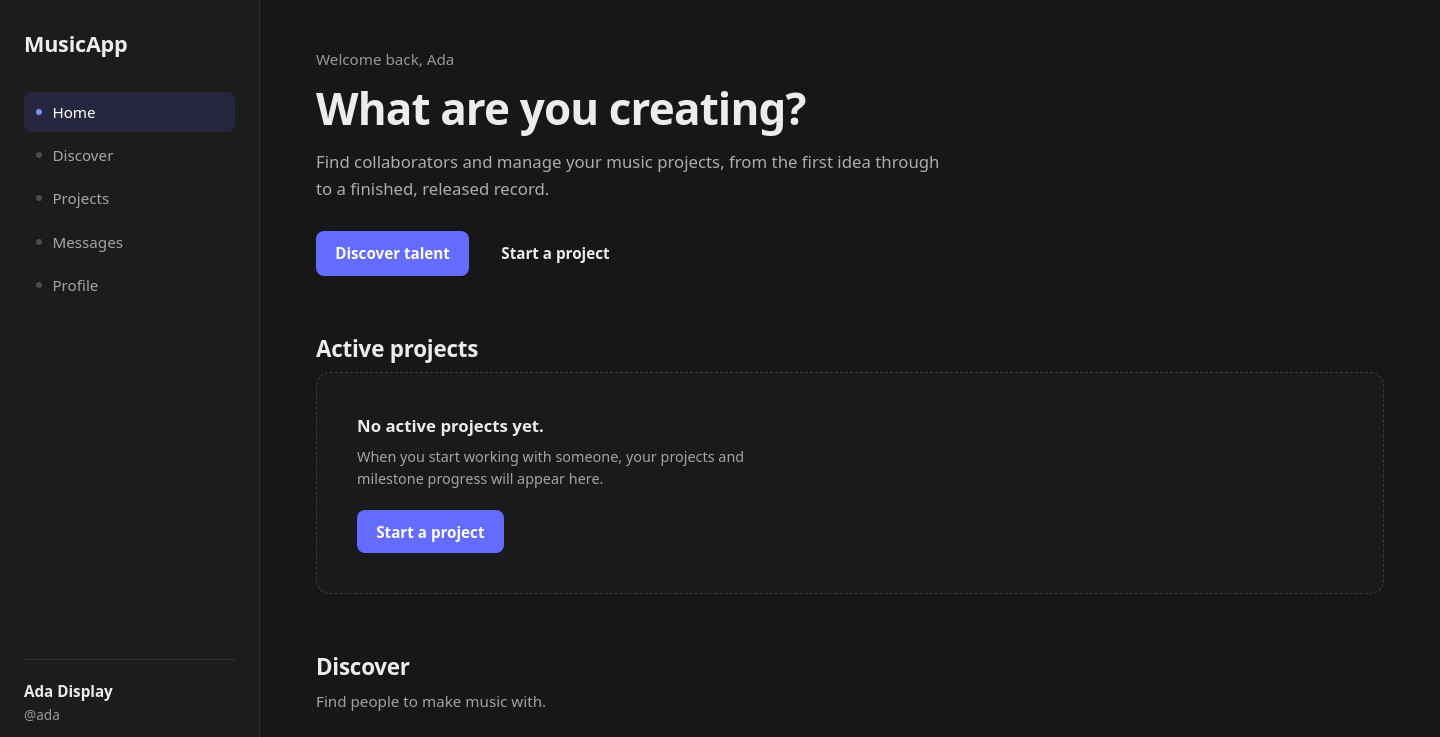
Scenario: MVP-013 discover search › shows the server error and retries the search
This screenshot has width=1440, height=737.
Click the button "Discover" at coordinates (130, 155), box [24,136,235,175]
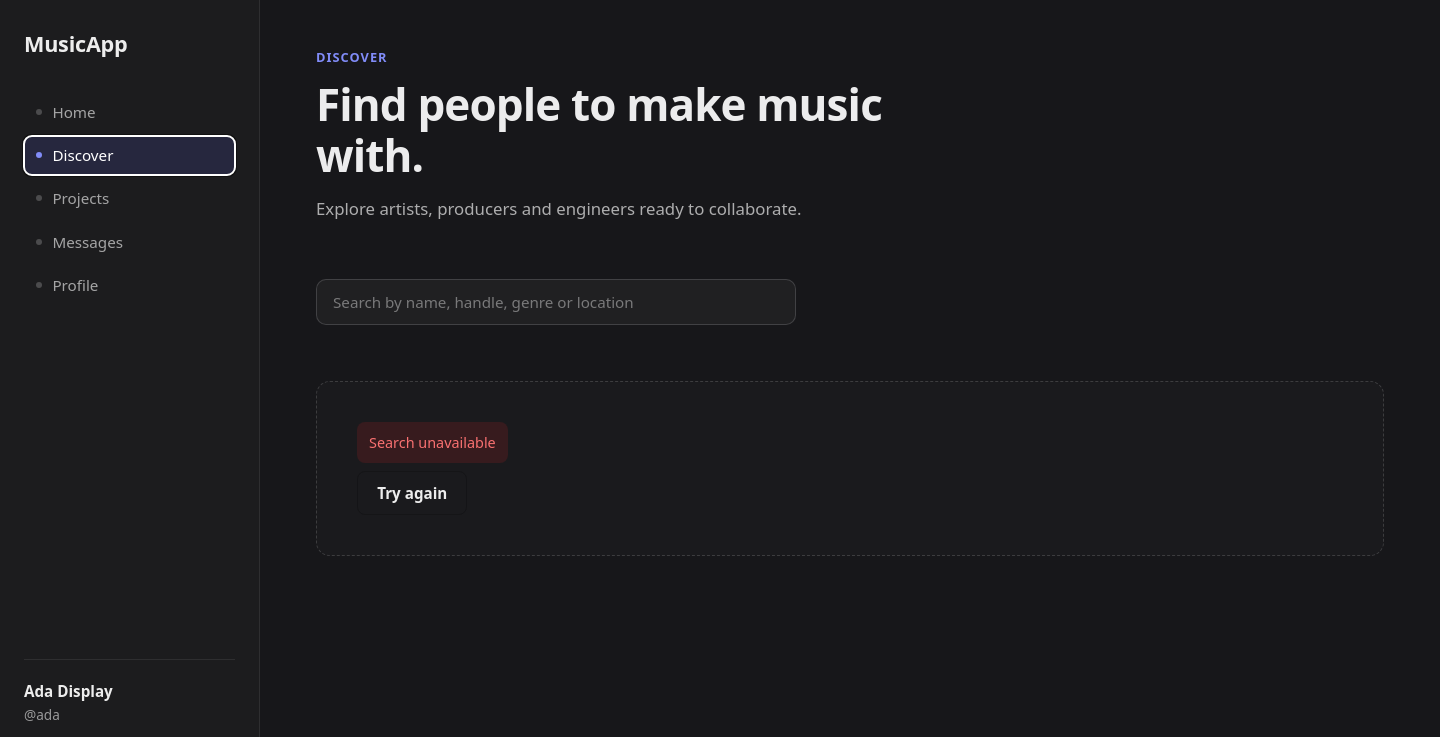
expect the text "Search unavailable" is shown: met, box [357,422,508,463]
Click the button "Try again" at coordinates (412, 493), box [357,471,468,515]
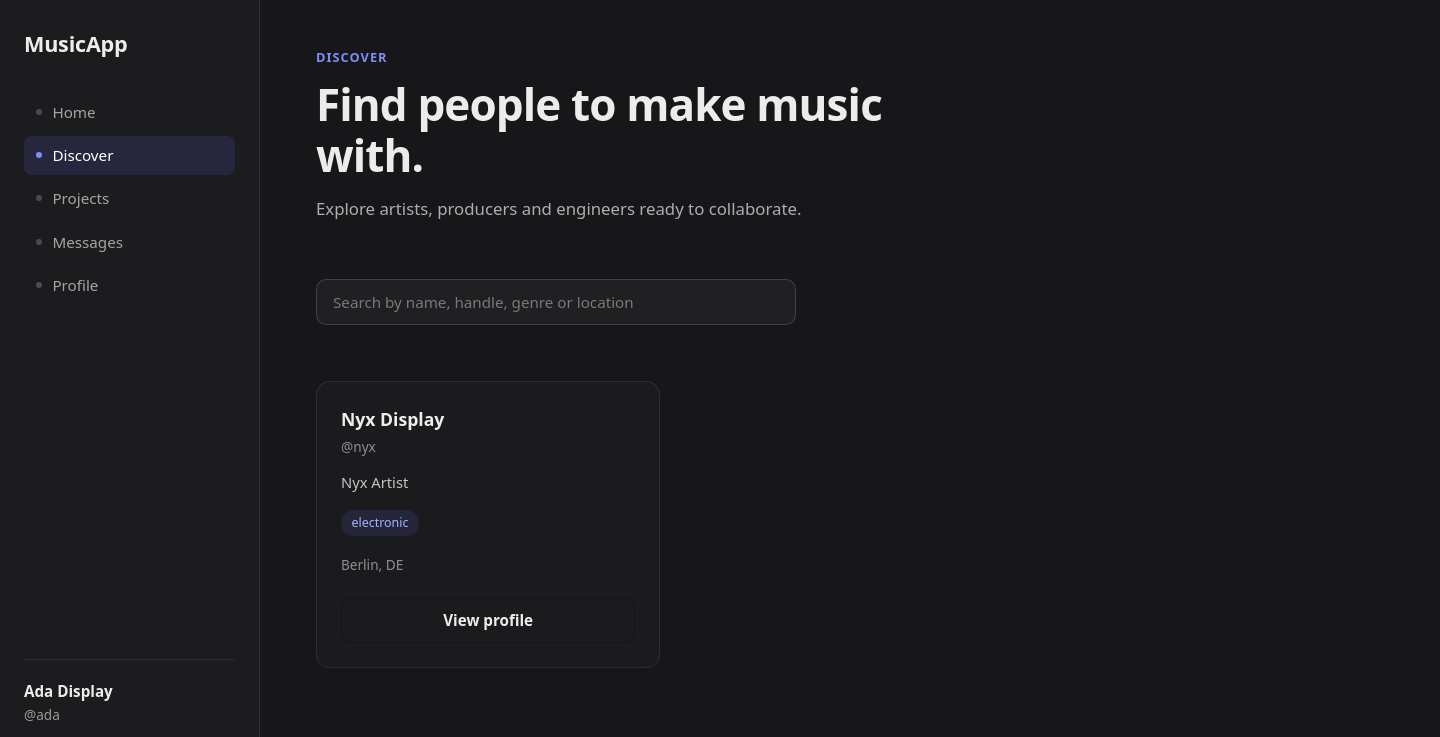
expect the text "Nyx Display" is shown: met, box [341,406,444,433]
